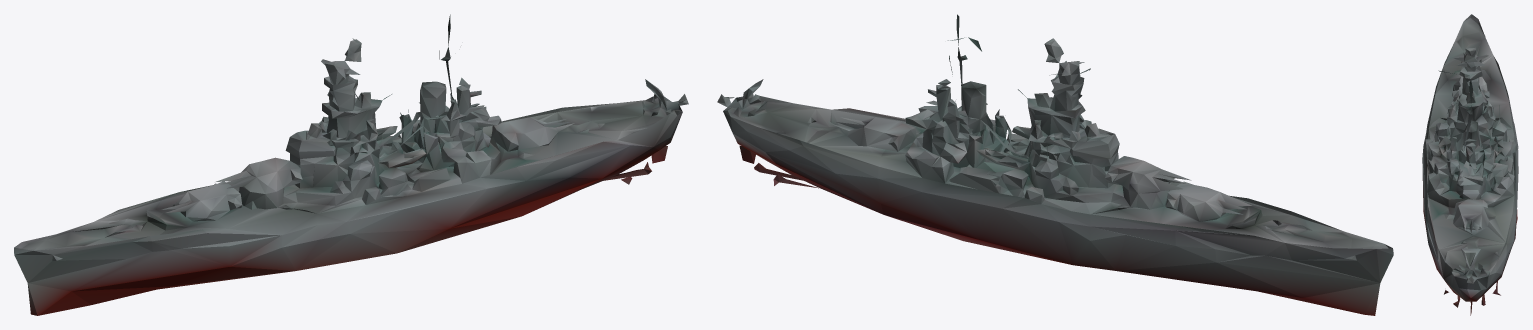
The model's file is battleship_lod1.glb.
The picture shows the model from 3 angles, left to right: view 1: azimuth 30°, elevation 25°; view 2: azimuth 150°, elevation 25°; view 3: azimuth 270°, elevation 25°; orthographic projection. The views are drawn at different scales.
Parts seen in each view (by area): view 1: battleship; view 2: battleship; view 3: battleship.
Part boxes in pixels (left/top/right/bottom): battleship: left=14, top=14, right=688, bottom=315; battleship: left=717, top=14, right=1393, bottom=315; battleship: left=1422, top=14, right=1518, bottom=315.
Bounding box in the file's own units: 1.9 × 0.5387 × 0.3017.
